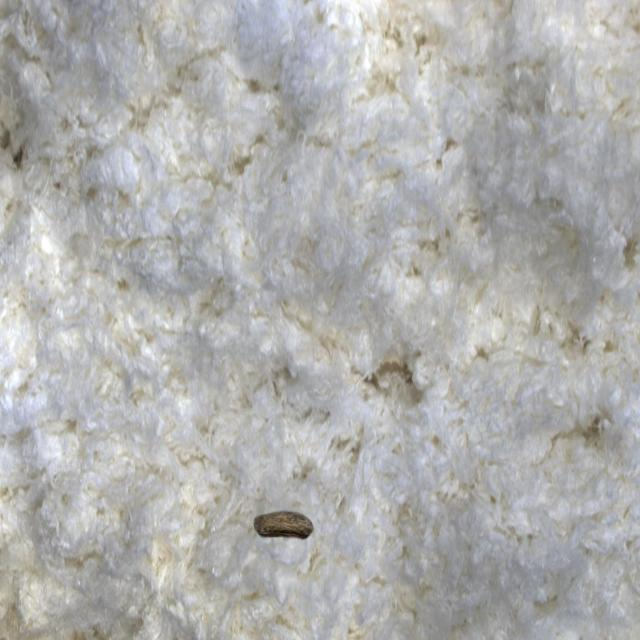dust: (229, 462, 333, 599)
